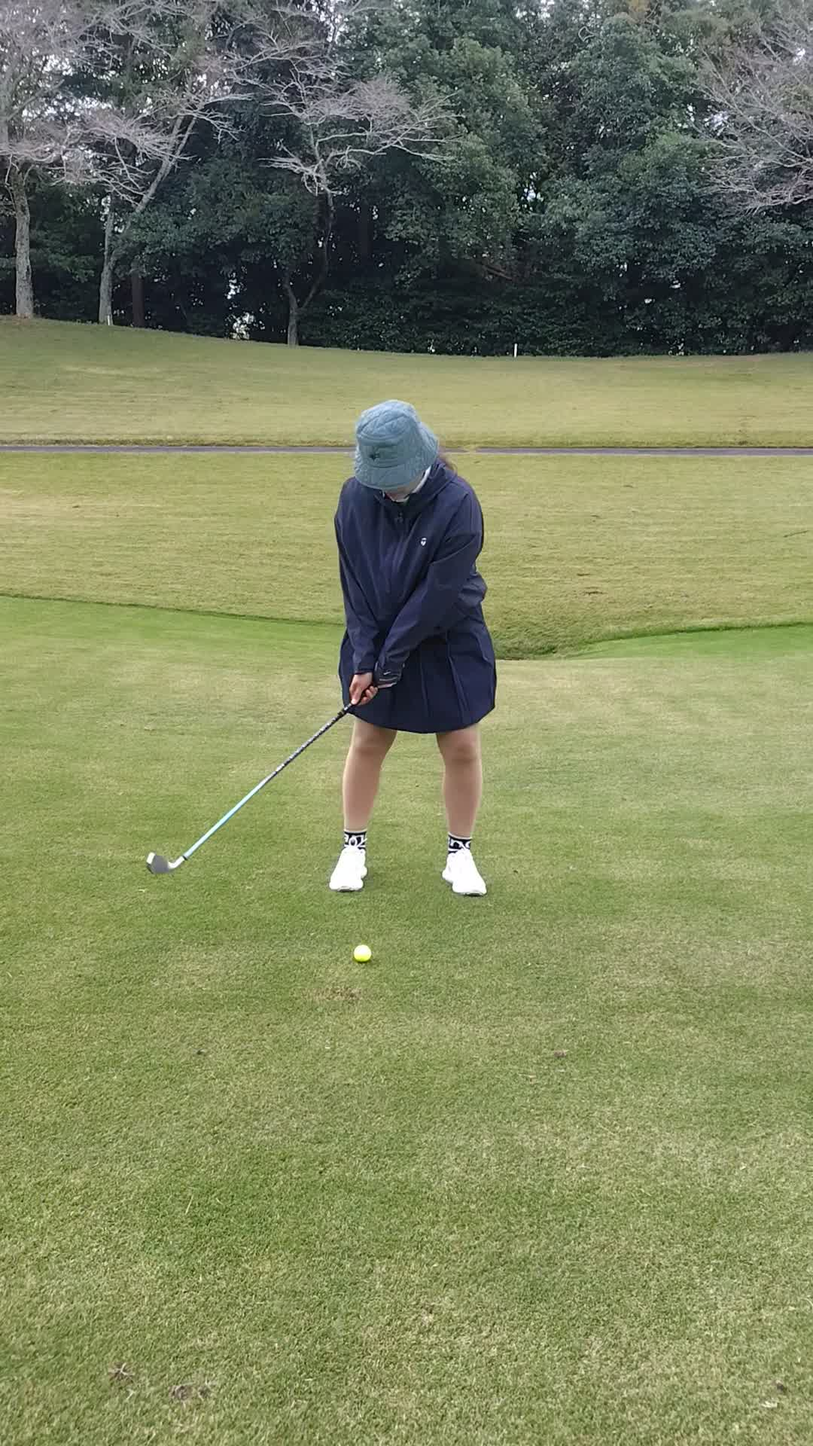clubhead: (115, 820, 220, 983)
